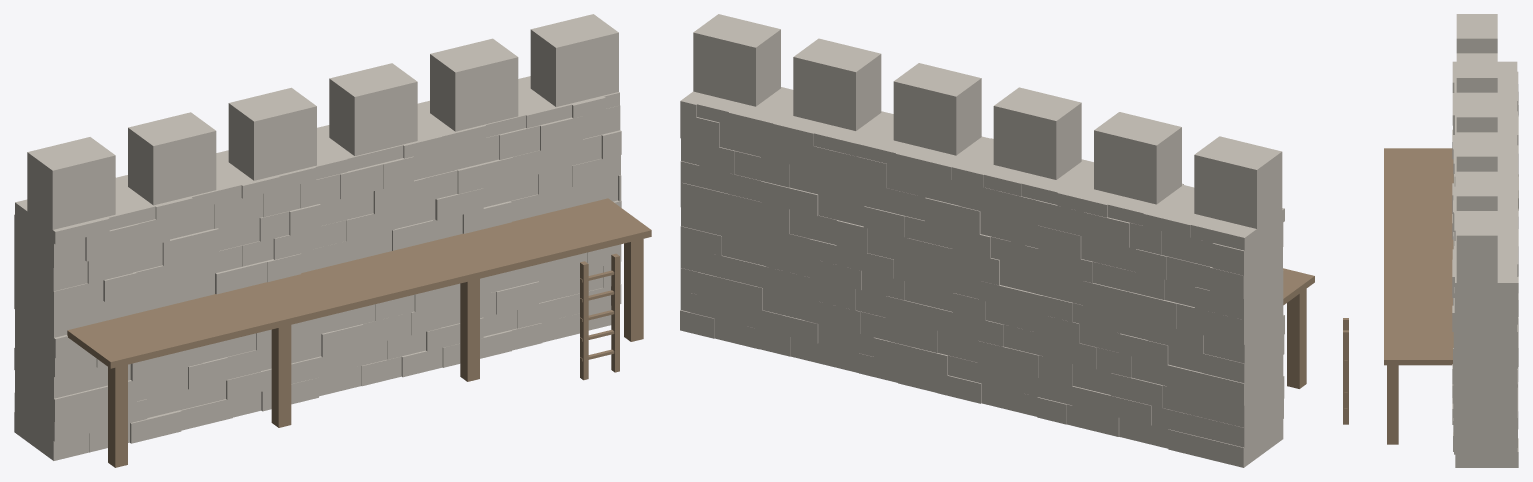
Rendered from street-wall-1316.glb.
The picture shows the model from 3 angles, left to right: view 1: azimuth 30°, elevation 25°; view 2: azimuth 150°, elevation 25°; view 3: azimuth 270°, elevation 25°; orthographic projection. The views are drawn at different scales.
Visible parts, largest first — view 1: wall, step; view 2: wall, step; view 3: wall, step.
Boxes of the visible parts, bbox=[...] form: wall: bbox=[14, 14, 621, 460]; step: bbox=[67, 198, 651, 467]; wall: bbox=[680, 14, 1284, 467]; step: bbox=[1283, 268, 1314, 388]; wall: bbox=[1452, 14, 1518, 467]; step: bbox=[1343, 148, 1453, 444].
Size of the model in its own units: 9 by 4.4 by 3.01.
